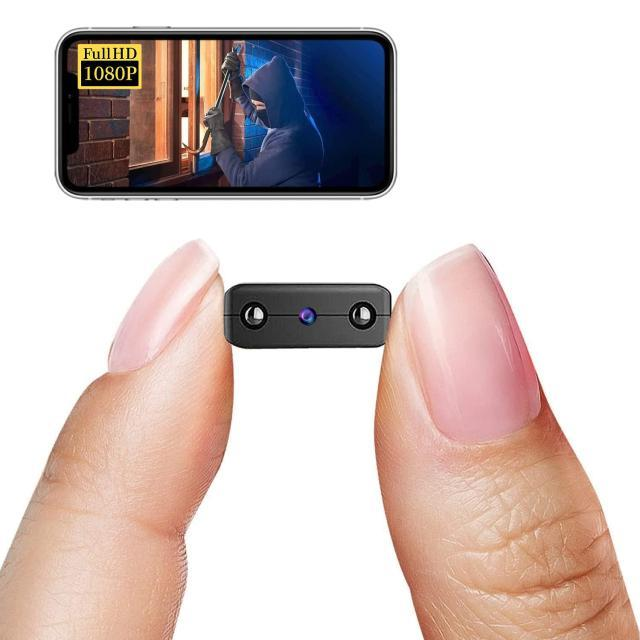hidden camera: (299, 301, 318, 326)
